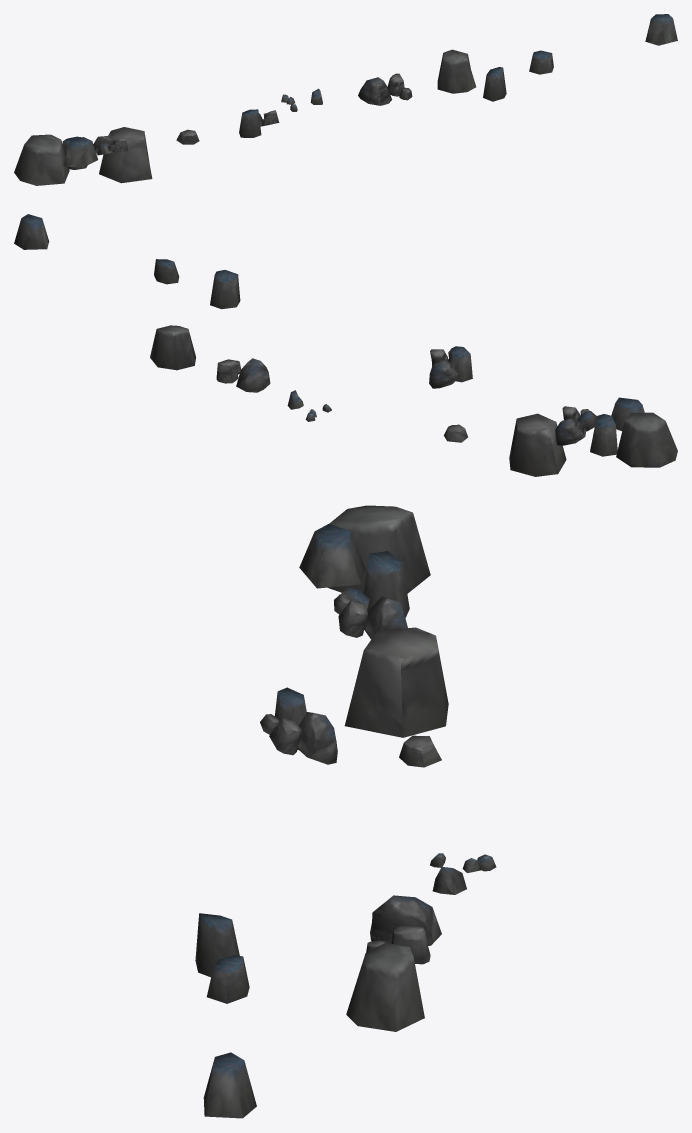
Rendered from Area_15_13.fbx.
3 views of the same model, one above another, from view 1: azimuth 30°, elevation 25°; view 2: azimuth 150°, elevation 25°; view 3: azimuth 270°, elevation 25° (orthographic). The views are drawn at different scales.
Visible parts, largest first — view 1: Area_15_13; view 2: Area_15_13; view 3: Area_15_13.
Boxes of the visible parts, x1,y1,x2,y2 form: Area_15_13: (14, 14, 677, 185); Area_15_13: (14, 214, 677, 476); Area_15_13: (195, 505, 496, 1118).
Bounding box in the file's own units: 7692 × 786 × 1619.
